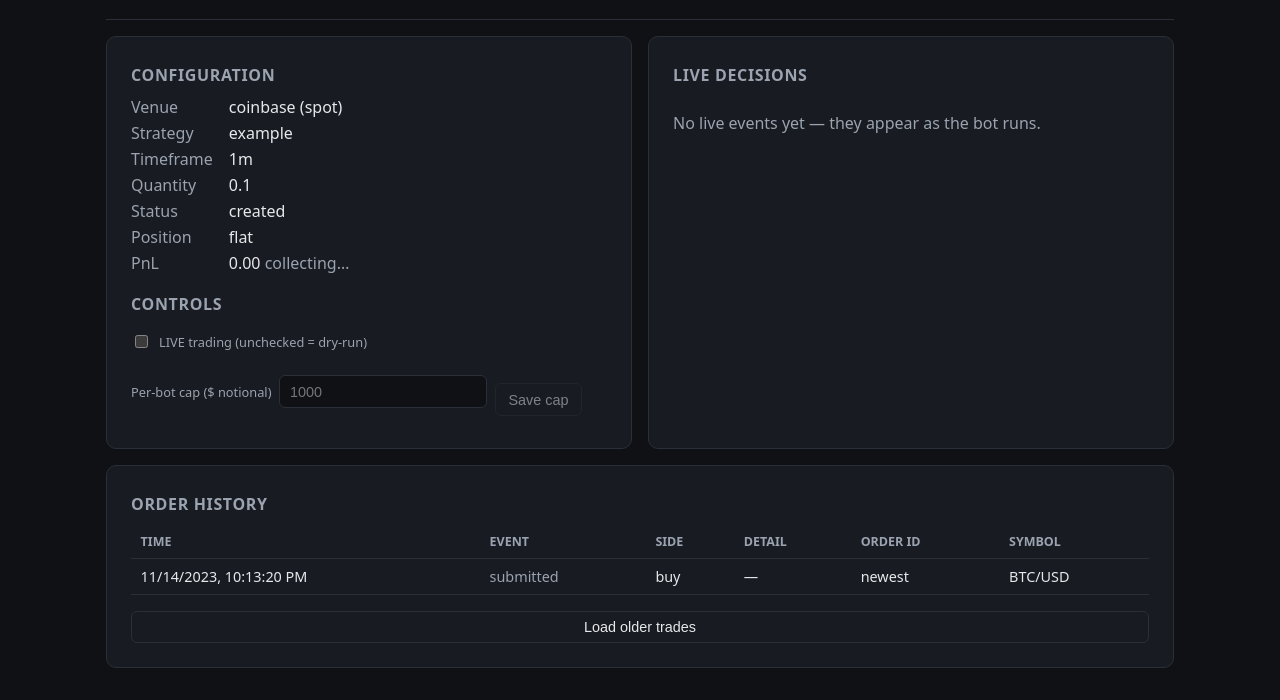
BotDetail › loads older trades on demand instead of all at once
(page scrolled)
Expected: the text "newest" is shown, [851,558,1000,594]
Click the button "Load older trades" at point(640, 627), box [131,611,1149,643]
(page scrolled)
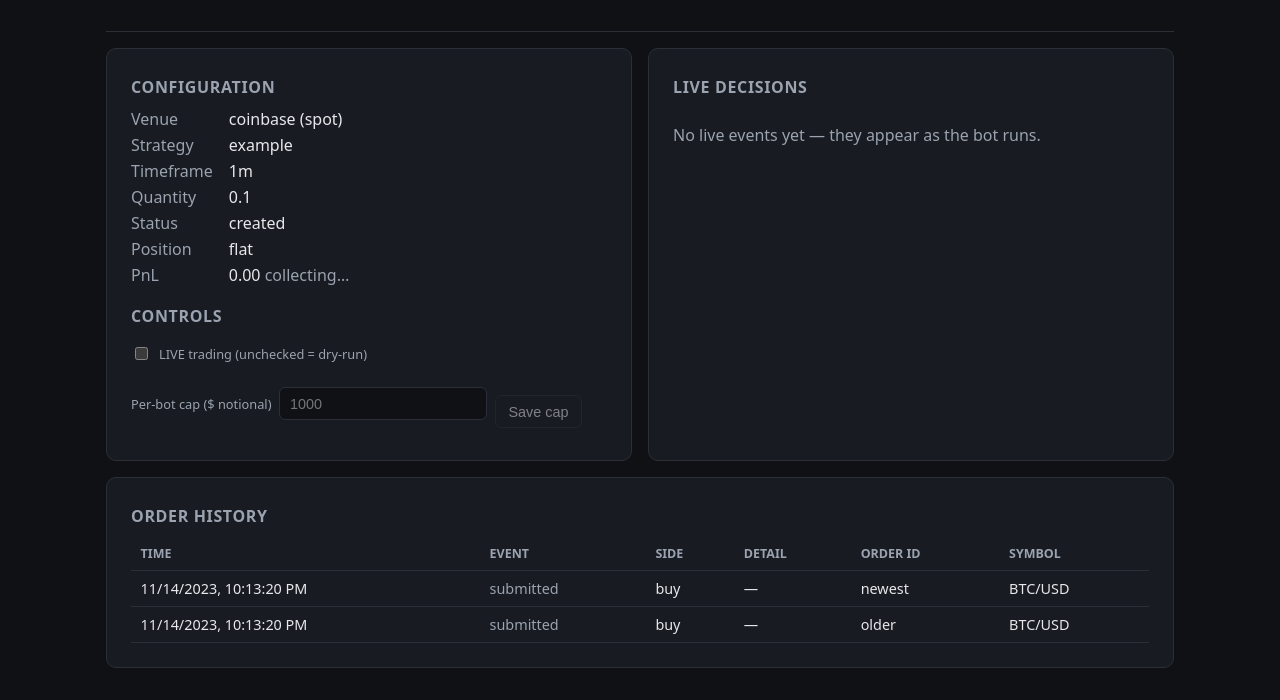
Expected: the text "older" is shown, [851,606,1000,642]
Expected: the button "Load older trades" is gone
